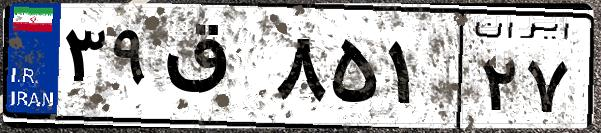1: (385, 28, 445, 110)
2: (475, 38, 525, 113)
3: (57, 26, 110, 100)
5: (330, 28, 385, 110)
7: (525, 38, 570, 115)
8: (270, 28, 330, 110)
9: (110, 28, 158, 98)
ق: (158, 20, 270, 120)
